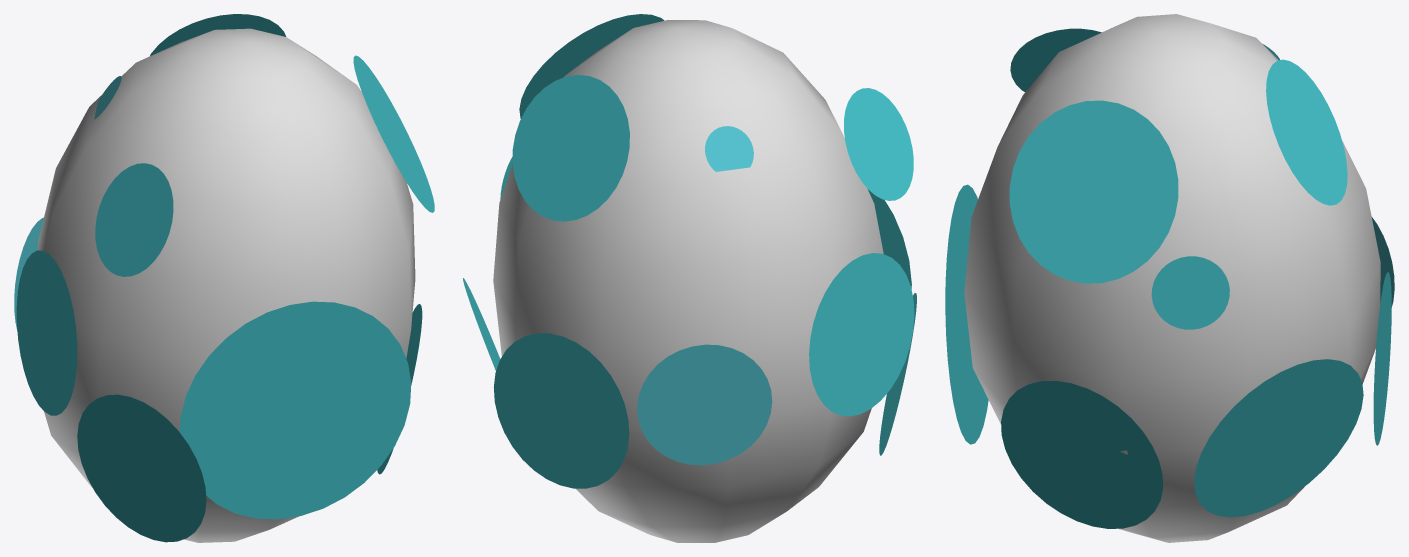
Rendered from egg.fbx.
3 renders of one model, left to right at view 1: azimuth 30°, elevation 25°; view 2: azimuth 150°, elevation 25°; view 3: azimuth 270°, elevation 25°, orthographic. The views are drawn at different scales.
Parts seen in each view (by area): view 1: Circle.011; view 2: Circle.011; view 3: Circle.011.
Boxes of the visible parts, x1,y1,x2,y2 form: Circle.011: [14, 14, 434, 542]; Circle.011: [463, 14, 916, 542]; Circle.011: [945, 14, 1394, 542].
Bounding box in the file's own units: 179 × 218 × 174.
